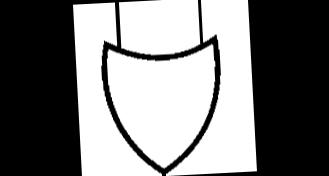or: (85, 27, 234, 176)
